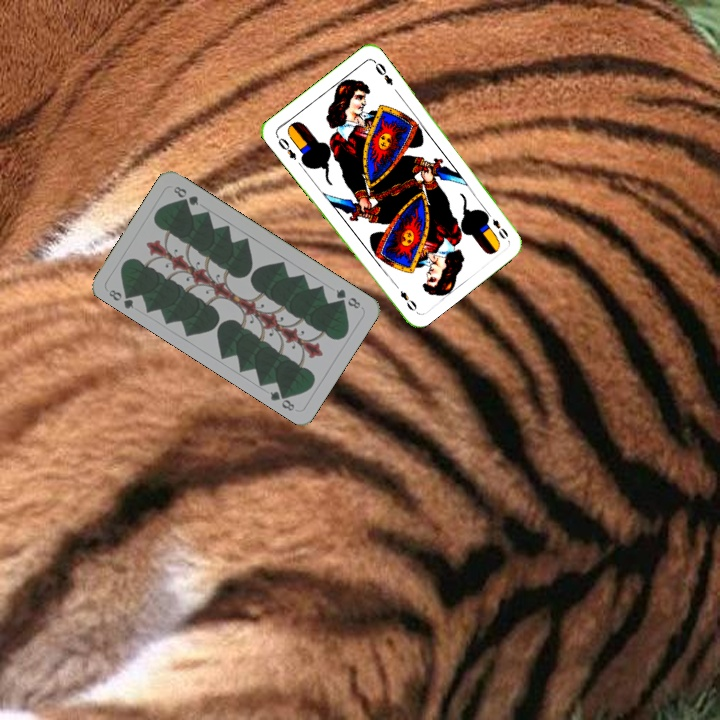EO: (482, 207, 511, 242), (272, 132, 299, 163)
G8: (105, 285, 137, 312), (332, 285, 363, 311)
